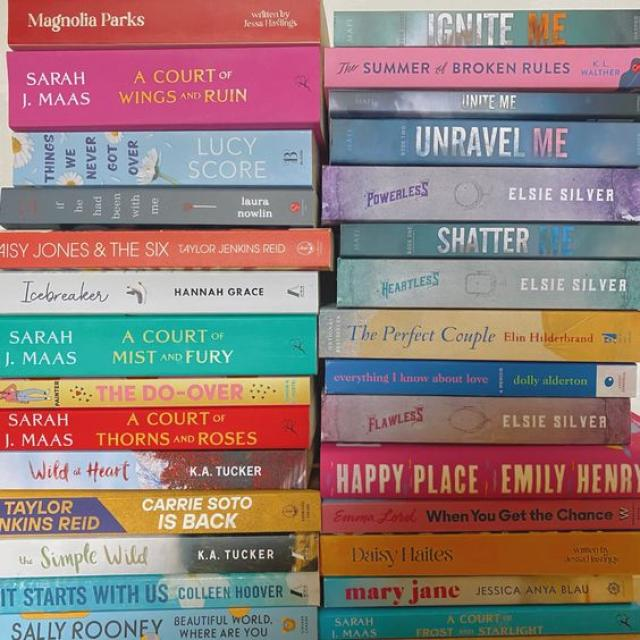book: (9, 47, 321, 142), (320, 431, 639, 497), (0, 314, 315, 377), (322, 166, 639, 224), (320, 309, 639, 362), (14, 130, 312, 185), (7, 0, 320, 49), (337, 260, 639, 310), (322, 396, 630, 444), (0, 404, 309, 450), (330, 120, 639, 166), (321, 531, 639, 575), (0, 490, 319, 533), (0, 229, 331, 270), (325, 48, 639, 91), (0, 534, 318, 576), (0, 271, 318, 313), (0, 573, 319, 614), (0, 187, 318, 228), (0, 450, 306, 489), (327, 9, 639, 45), (337, 222, 639, 259), (320, 604, 639, 639), (321, 498, 639, 533), (325, 361, 634, 397), (0, 607, 317, 639), (0, 377, 310, 407), (325, 578, 637, 607), (329, 91, 639, 119)
